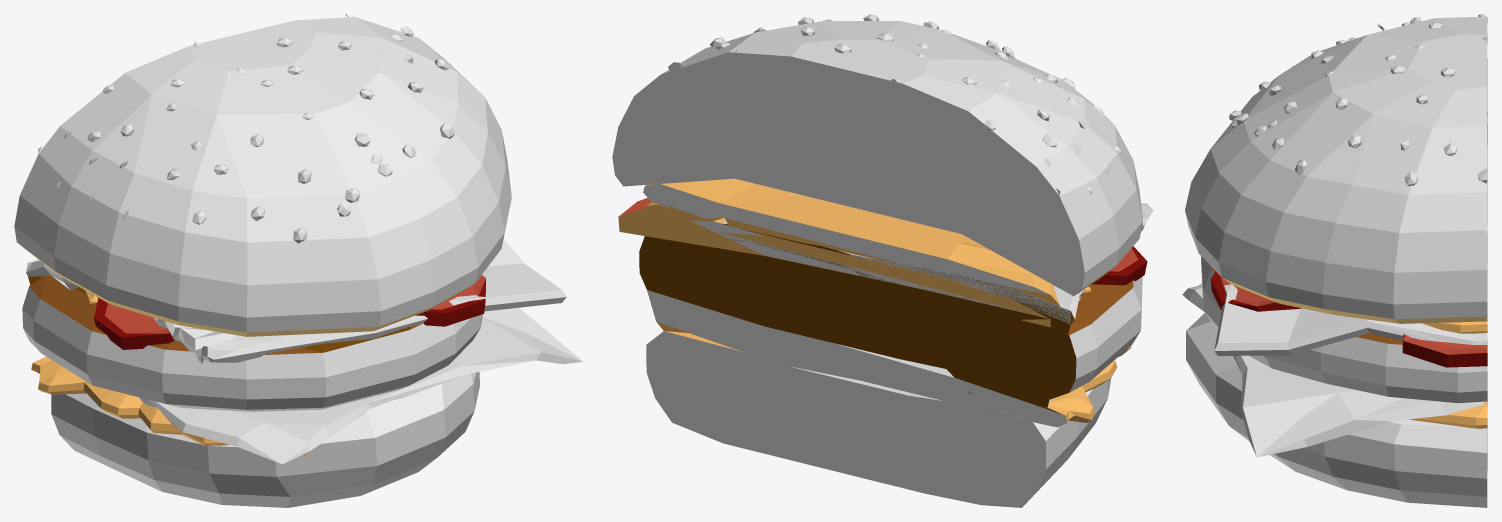
The model's file is PolaBurgercine.fbx.
3 views of the same model, side by side, from view 1: azimuth 30°, elevation 25°; view 2: azimuth 150°, elevation 25°; view 3: azimuth 270°, elevation 25° (orthographic). The views are drawn at different scales.
Parts seen in each view (by area): view 1: Pain haut; view 2: Pain haut; view 3: Pain haut.
Boxes of the visible parts, box(x1,y1,x2,y2) form: Pain haut: box(14, 14, 582, 507); Pain haut: box(612, 14, 1153, 507); Pain haut: box(1182, 14, 1487, 507).
Bounding box in the file's own units: 137 × 82.54 × 113.
